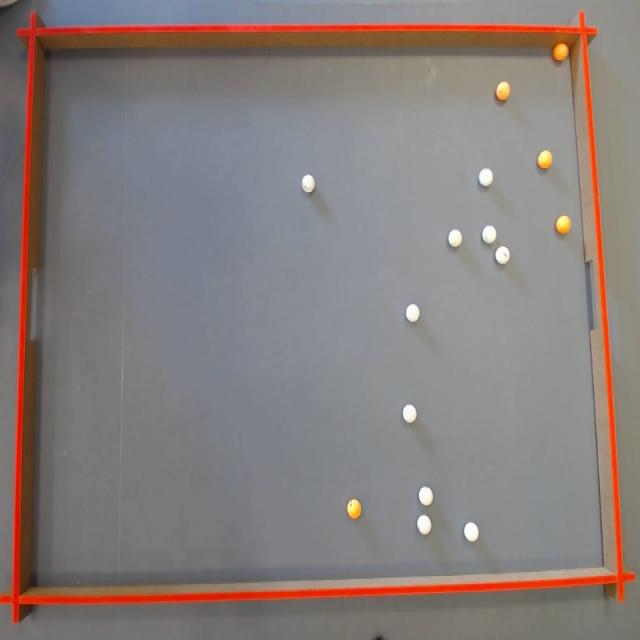orange_ball: (556, 215, 571, 234), (347, 499, 361, 519), (553, 43, 568, 61), (496, 81, 510, 100), (538, 150, 552, 169)
white_ball: (418, 486, 433, 506), (482, 225, 497, 244), (464, 522, 478, 542), (417, 515, 431, 535), (479, 168, 493, 187), (406, 304, 420, 322), (448, 230, 462, 248), (496, 246, 510, 264), (403, 404, 416, 423), (302, 175, 314, 192)
